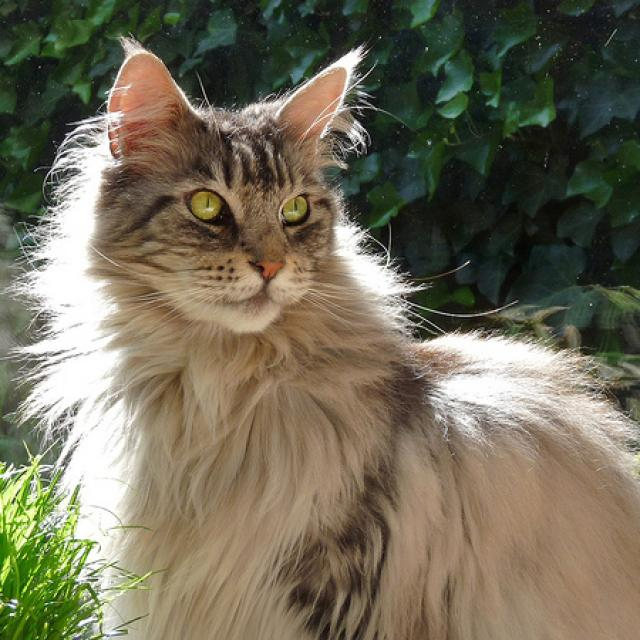Maine Coon: (24, 41, 640, 640)
